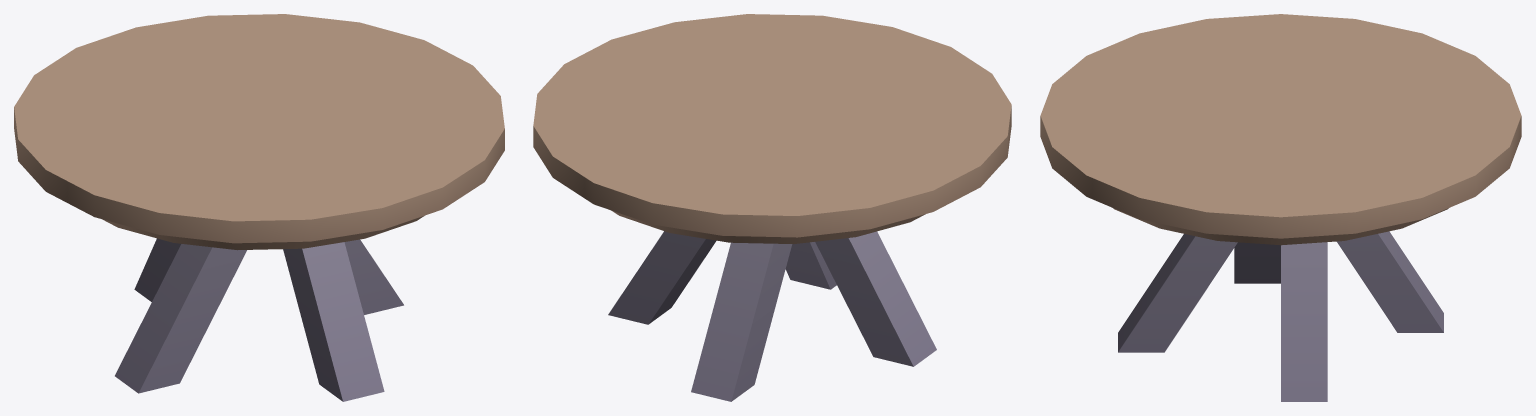
Rendered from table-kitchen-round-metal.glb.
3 renders of one model, left to right at view 1: azimuth 30°, elevation 25°; view 2: azimuth 150°, elevation 25°; view 3: azimuth 270°, elevation 25°, orthographic. The views are drawn at different scales.
Parts seen in each view (by area): view 1: table-kitchen-round-metal; view 2: table-kitchen-round-metal; view 3: table-kitchen-round-metal.
Part boxes in pixels (x1=…): table-kitchen-round-metal: x1=14, y1=14, x2=504, y2=401; table-kitchen-round-metal: x1=533, y1=14, x2=1011, y2=401; table-kitchen-round-metal: x1=1040, y1=14, x2=1521, y2=401.
Bounding box in the file's own units: 1.03 × 0.5146 × 1.03.
